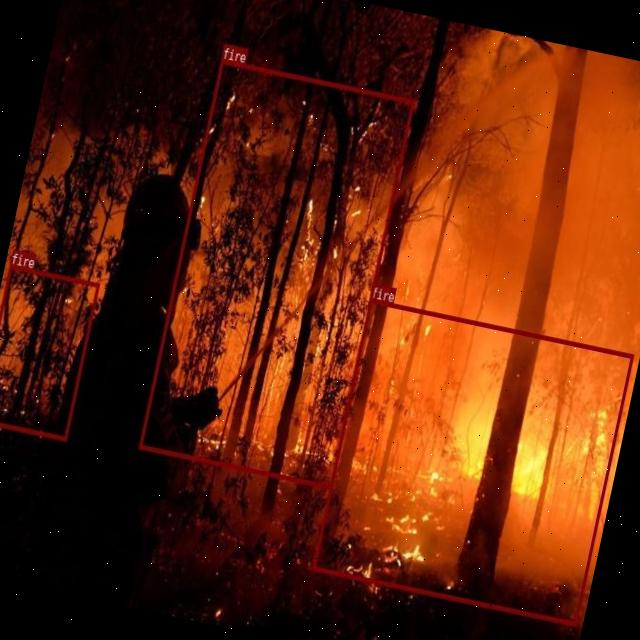fire: (138, 59, 414, 488), (312, 298, 634, 625), (0, 264, 98, 441)
